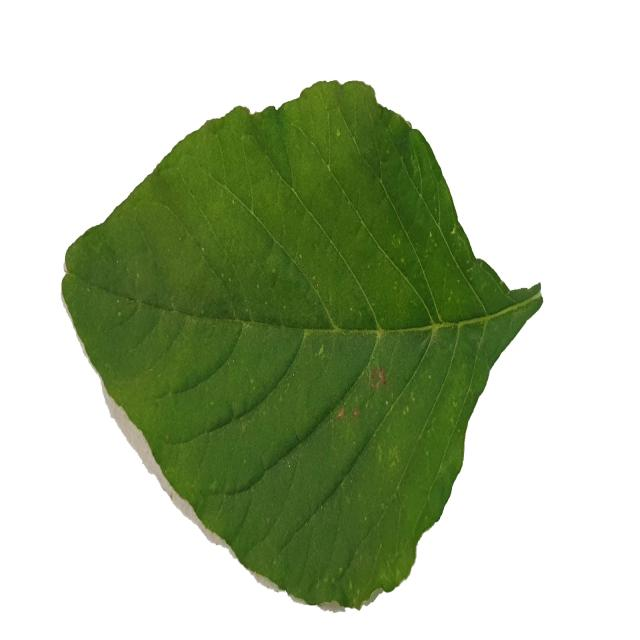Medicinal-Arive Dantu: (63, 72, 541, 610)
